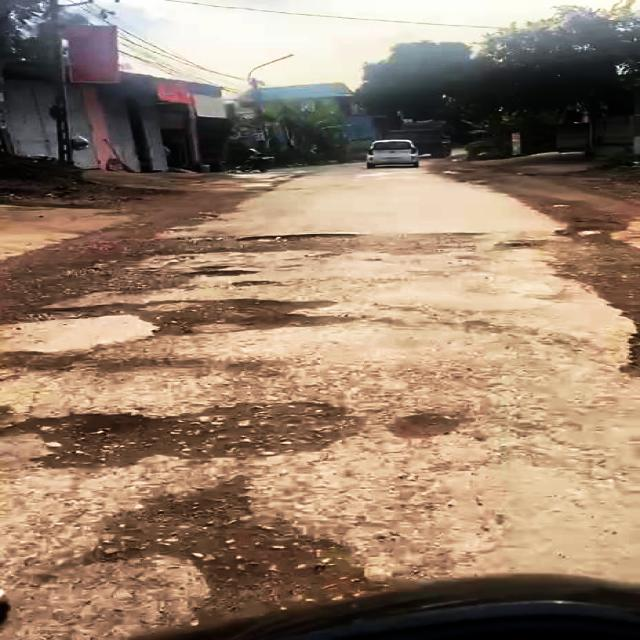pothole: (61, 477, 380, 631), (3, 392, 364, 472), (15, 295, 378, 339), (182, 264, 283, 290), (237, 232, 356, 243)
